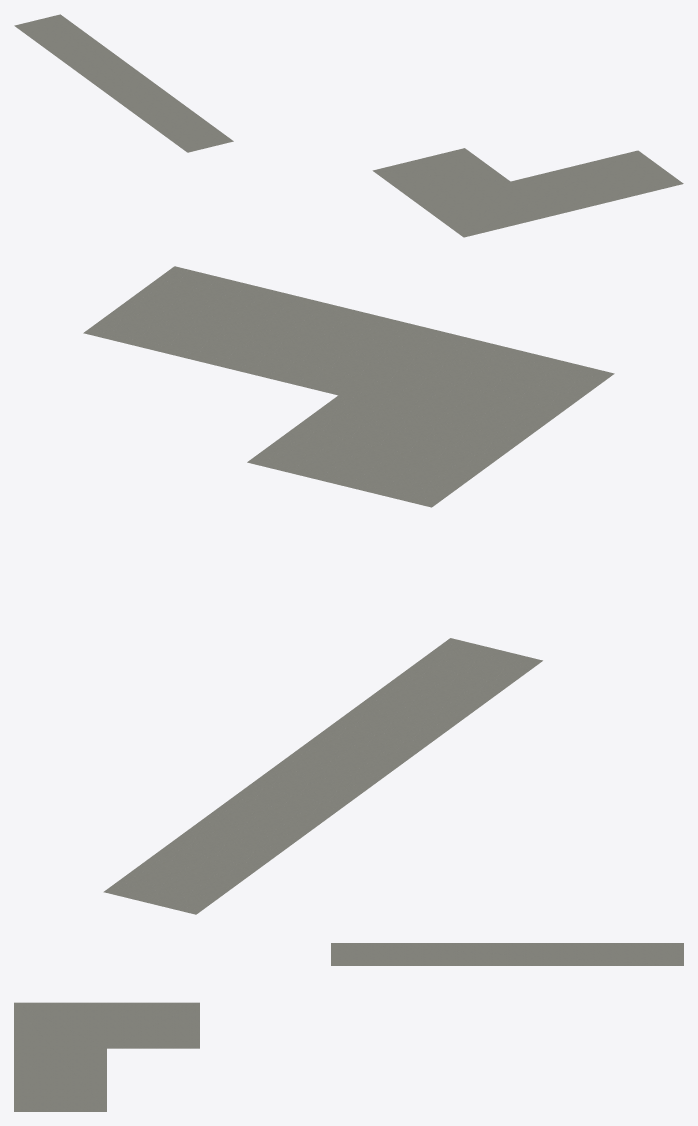
Rendered from kd_stage_135b75_2_10.glb.
3 renders of one model, top to bottom at view 1: azimuth 30°, elevation 25°; view 2: azimuth 150°, elevation 25°; view 3: azimuth 270°, elevation 25°, orthographic. The views are drawn at different scales.
Parts seen in each view (by area): view 1: kd_stage_135b75_2_10; view 2: kd_stage_135b75_2_10; view 3: kd_stage_135b75_2_10.
Part boxes in pixels (x1=…): kd_stage_135b75_2_10: x1=14, y1=14, x2=683, y2=237; kd_stage_135b75_2_10: x1=83, y1=266, x2=614, y2=914; kd_stage_135b75_2_10: x1=14, y1=943, x2=683, y2=1111.
Size of the model in its own units: 6.23 by 4.77e-07 by 10.45.
1 material, 1 textured.
